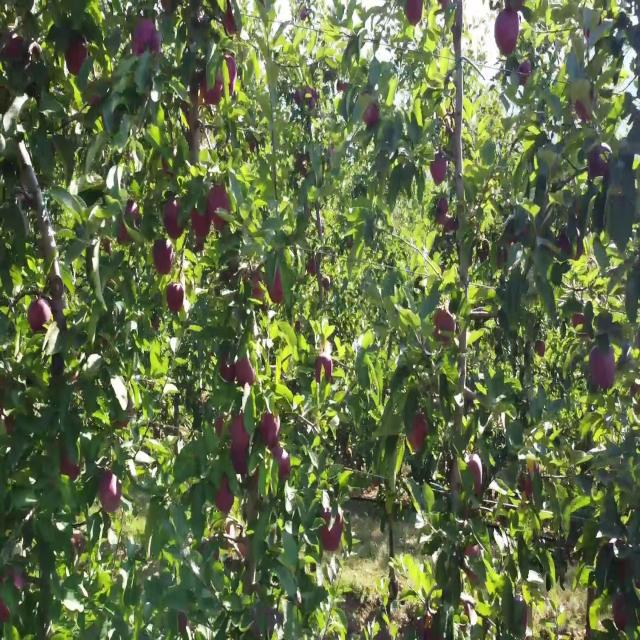apple: (208, 184, 232, 231), (100, 469, 124, 514), (320, 511, 344, 555), (132, 21, 161, 57), (592, 348, 616, 391), (496, 14, 520, 57), (28, 298, 52, 334), (200, 71, 224, 107), (164, 199, 184, 242), (408, 412, 428, 452), (120, 206, 141, 244), (232, 412, 251, 453), (260, 412, 280, 450), (520, 462, 539, 500), (68, 42, 88, 78), (272, 447, 292, 482), (436, 312, 456, 347), (216, 476, 234, 514), (236, 355, 256, 389), (588, 149, 611, 178), (468, 455, 484, 496), (156, 241, 174, 277), (60, 455, 81, 484), (192, 206, 212, 236), (268, 270, 284, 306), (464, 547, 480, 583), (4, 35, 25, 62), (612, 597, 628, 631), (440, 199, 455, 235), (508, 227, 530, 251), (520, 469, 536, 500), (168, 284, 185, 313), (316, 355, 332, 384), (220, 355, 236, 384), (432, 156, 448, 185), (224, 56, 236, 94), (4, 568, 24, 590), (408, 1, 424, 28), (116, 405, 133, 428), (224, 7, 237, 36), (364, 106, 380, 128), (576, 99, 592, 121), (440, 213, 456, 235), (216, 412, 229, 439), (232, 455, 248, 476), (572, 312, 589, 331), (0, 597, 11, 624), (440, 199, 450, 228), (560, 234, 574, 254), (520, 63, 532, 85), (4, 412, 15, 436), (252, 284, 265, 300), (520, 604, 528, 629), (536, 341, 547, 359), (240, 540, 248, 560), (308, 263, 317, 277), (180, 618, 188, 633), (620, 568, 627, 585)
